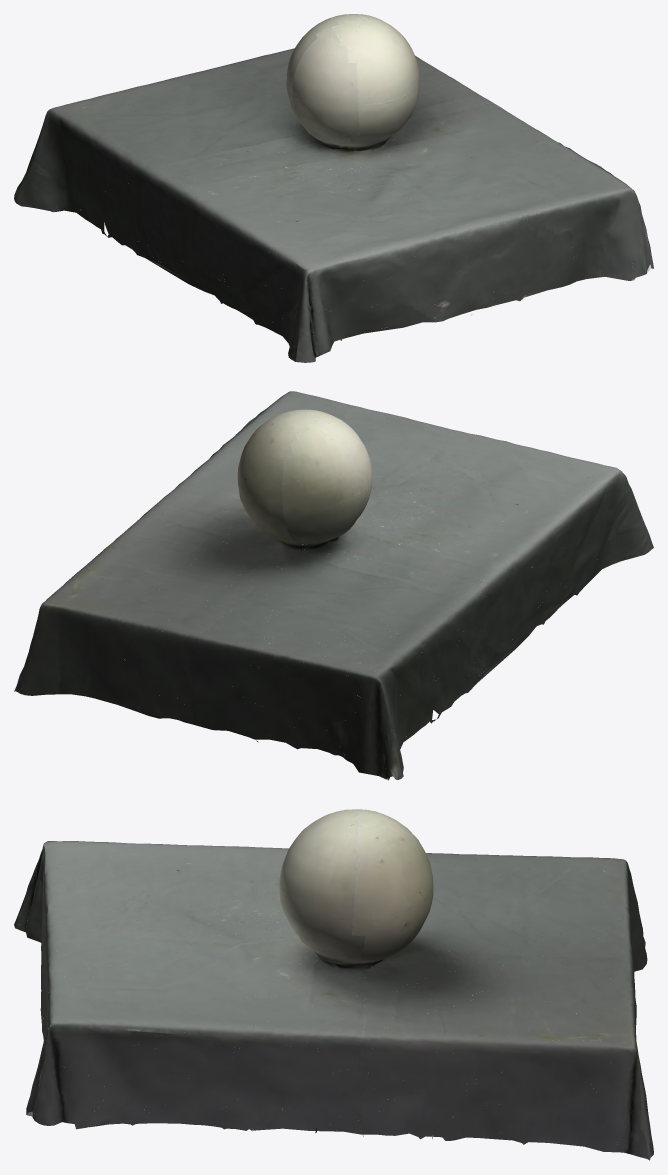
The model's file is 静物_几何体_衬布上球体01_opt.glb.
The picture shows the model from 3 angles, top to bottom: view 1: azimuth 30°, elevation 25°; view 2: azimuth 150°, elevation 25°; view 3: azimuth 270°, elevation 25°; orthographic projection. The views are drawn at different scales.
Visible parts, largest first — view 1: defaultMat, defaultMat_1; view 2: defaultMat, defaultMat_1; view 3: defaultMat, defaultMat_1.
Boxes of the visible parts, x1,y1,x2,y2 form: defaultMat: [14, 14, 653, 362]; defaultMat_1: [21, 17, 650, 362]; defaultMat: [14, 391, 653, 780]; defaultMat_1: [18, 403, 612, 780]; defaultMat: [14, 809, 653, 1160]; defaultMat_1: [19, 809, 653, 1155].
Bounding box in the file's own units: 0.5455 × 0.3 × 0.6865.
1 material, 1 textured.
